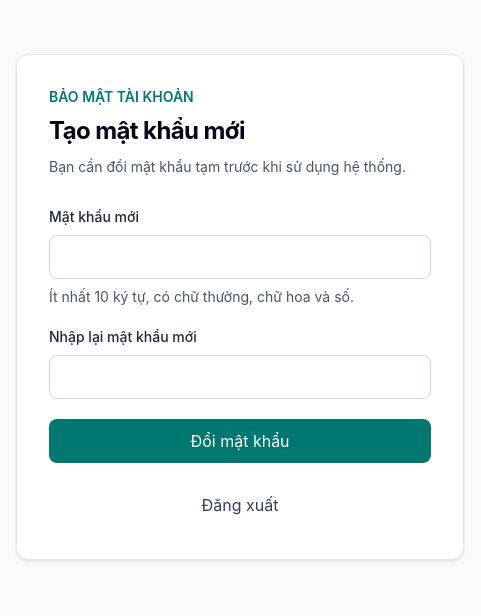
Test case: ChangePasswordPage › requires the approved password policy and matching confirmation
In the password field labelled "Mật khẩu mới": (240, 257) [49,235,431,279], type "matkhaumoi"
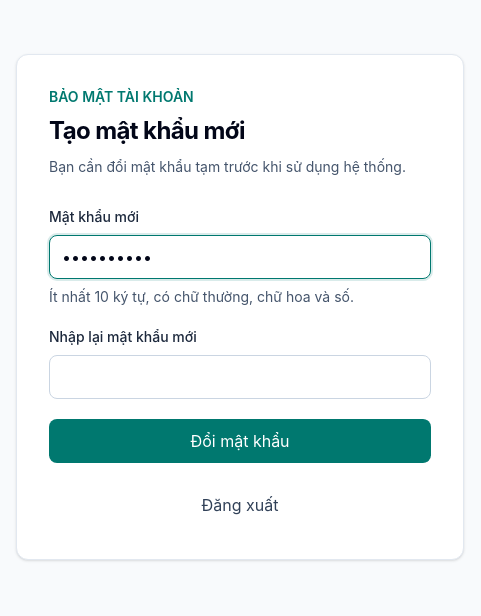
In the password field labelled "Nhập lại mật khẩu mới": (240, 377) [49,355,431,399], type "khongkhop"
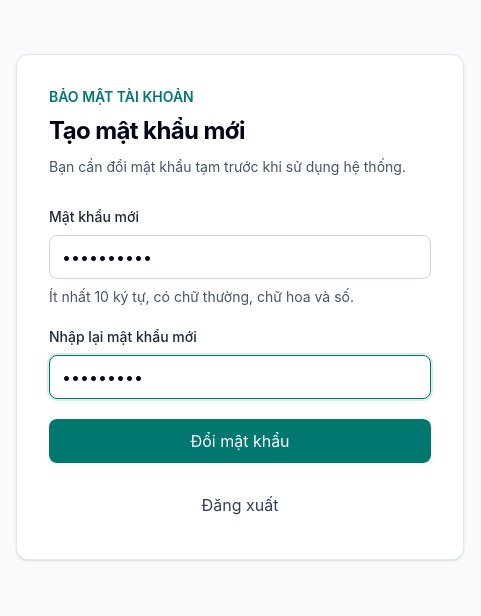
Click the button "Đổi mật khẩu": (240, 441) [49,419,431,463]
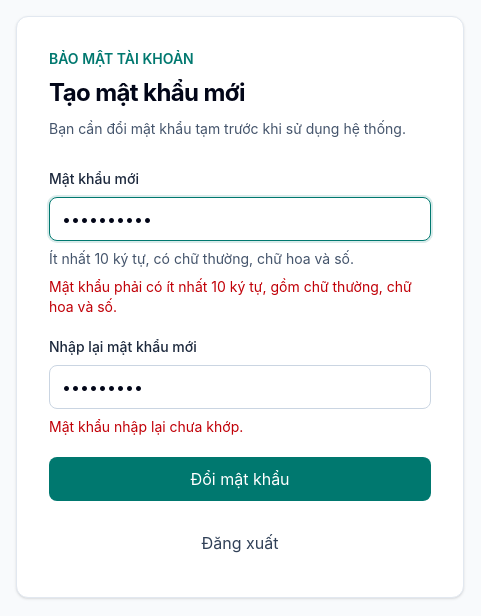
Check: the text "Mật khẩu phải có ít nhất 10 ký tự, gồm chữ thường, chữ hoa và số." is shown, box [49,277,431,317]
Check: the text "Mật khẩu nhập lại chưa khớp." is shown, box [49,418,243,435]
